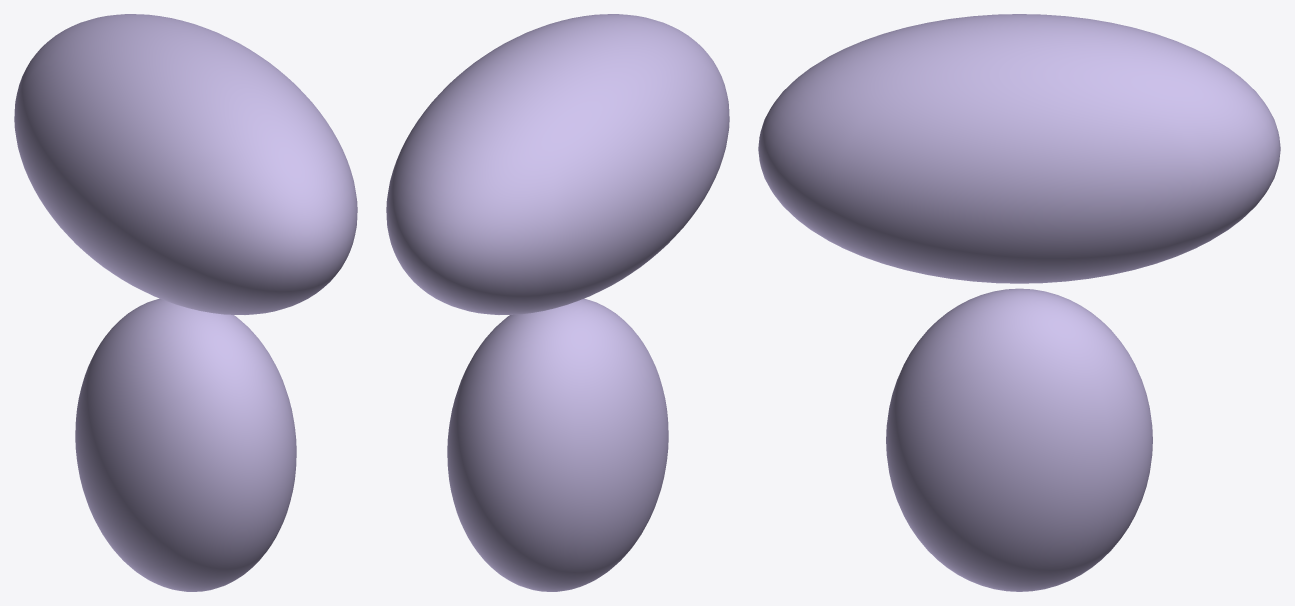
File: character.fbx
3 renders of one model, left to right at view 1: azimuth 30°, elevation 25°; view 2: azimuth 150°, elevation 25°; view 3: azimuth 270°, elevation 25°, orthographic. The views are drawn at different scales.
Parts seen in each view (by area): view 1: Cube.001; view 2: Cube.001; view 3: Cube.001.
Boxes of the visible parts, x1,y1,x2,y2 form: Cube.001: (14,14,357,591); Cube.001: (386,14,729,591); Cube.001: (758,14,1280,591).
Size of the model in its own units: 150 by 327 by 278.
